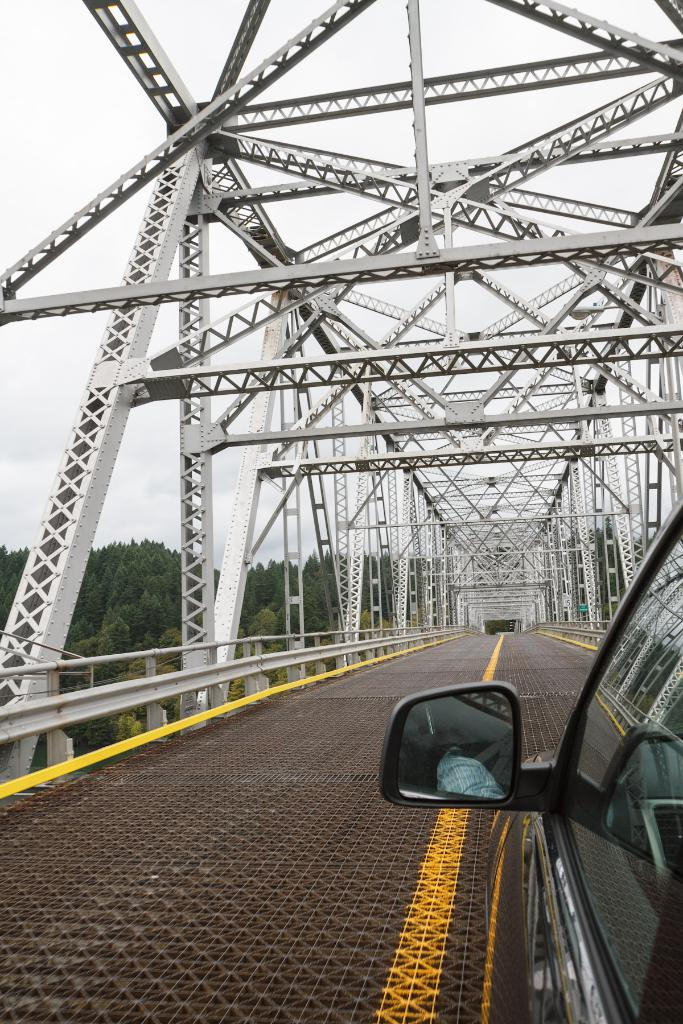Tree: (0, 531, 436, 724), (562, 507, 654, 607)
